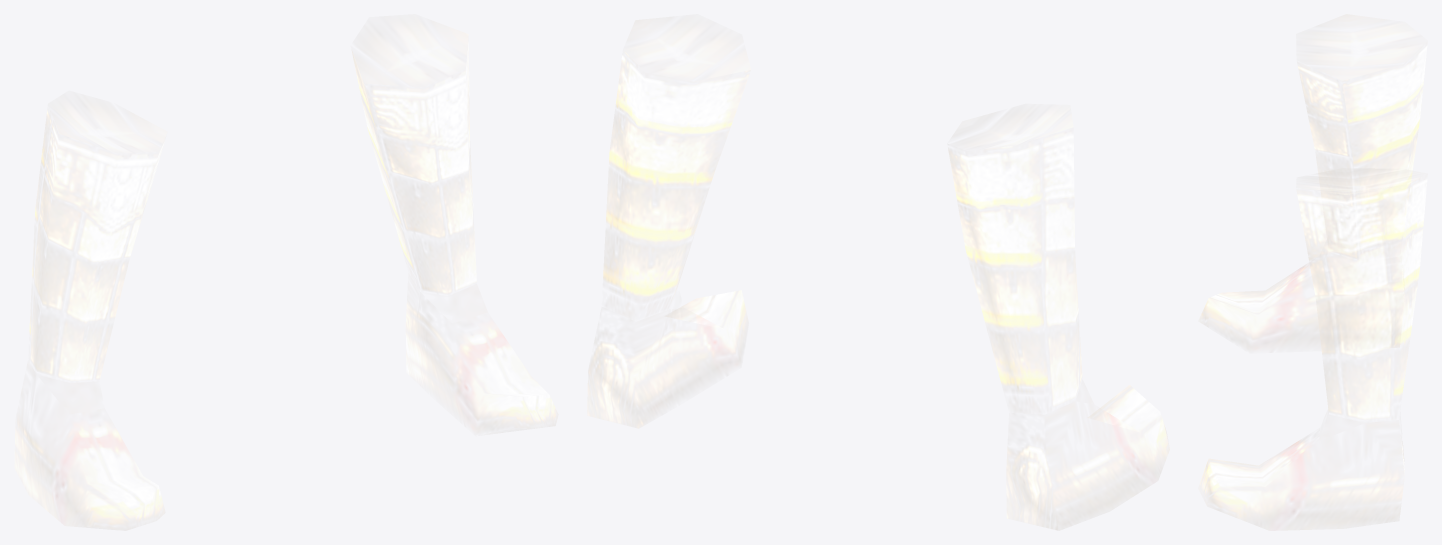
Rendered from heavy_03_fa.glb.
3 renders of one model, left to right at view 1: azimuth 30°, elevation 25°; view 2: azimuth 150°, elevation 25°; view 3: azimuth 270°, elevation 25°, orthographic. The views are drawn at different scales.
Visible parts, largest first — view 1: heavy_03_fa; view 2: heavy_03_fa; view 3: heavy_03_fa.
Boxes of the visible parts, x1=… form: heavy_03_fa: x1=14, y1=14, x2=558, y2=530; heavy_03_fa: x1=587, y1=14, x2=1169, y2=530; heavy_03_fa: x1=1198, y1=14, x2=1427, y2=530.
Size of the model in its own units: 0.6419 by 0.4494 by 0.2917.
Materials: 1 (1 with a texture image).
